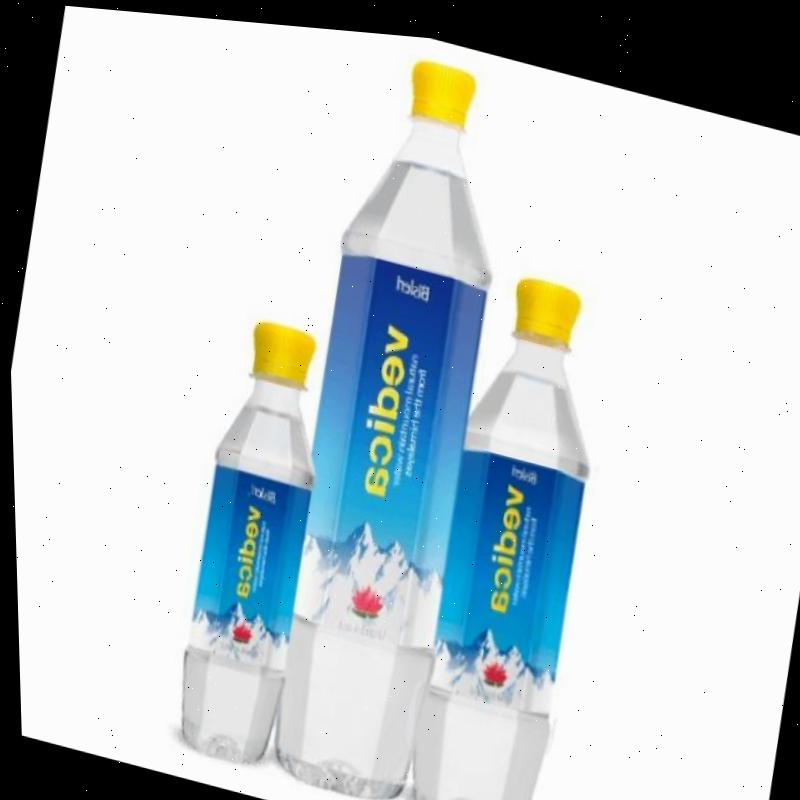botella: (241, 24, 537, 800), (387, 248, 626, 800), (157, 299, 343, 771)
